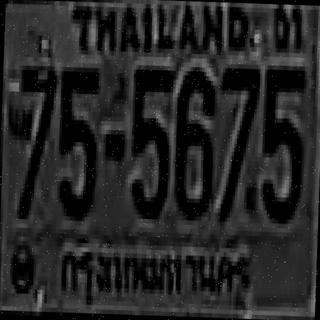N05: (258, 61, 304, 220), (126, 64, 172, 215), (56, 62, 98, 217)
N06: (171, 62, 214, 216)
N07: (216, 64, 258, 218), (16, 61, 56, 215)
P04: (56, 231, 254, 308)
